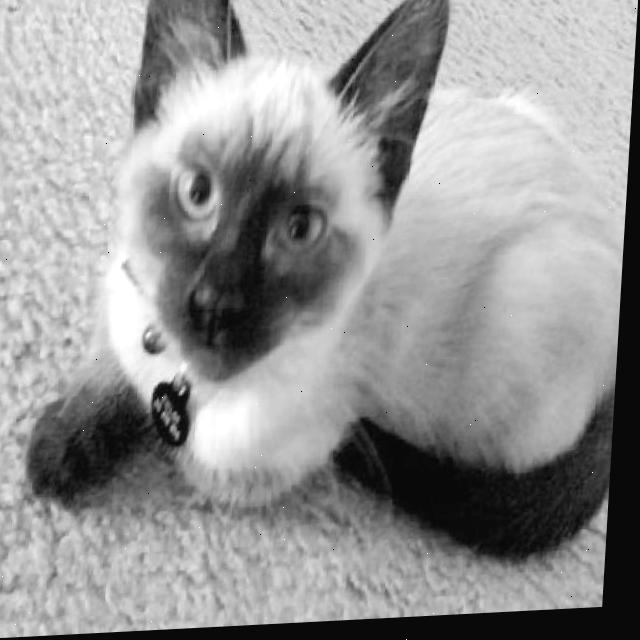Cat: (21, 0, 639, 585)
